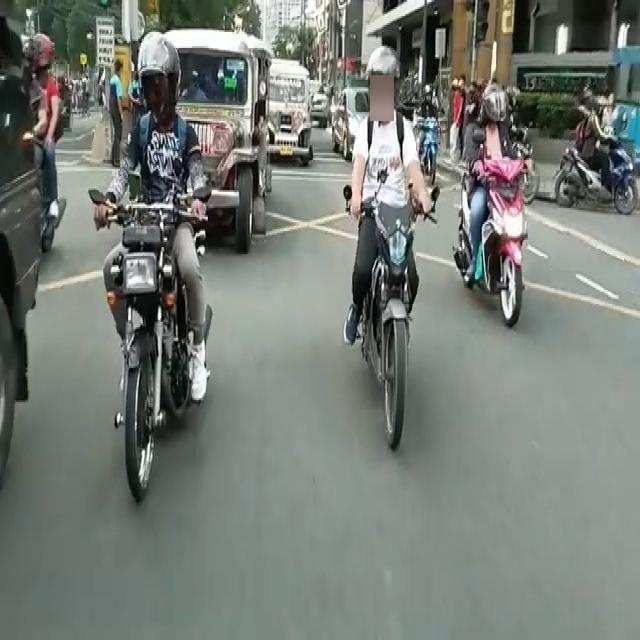car: (328, 92, 368, 158)
jeepney: (183, 38, 263, 236), (265, 61, 309, 167)
motorcycle: (97, 47, 218, 483), (342, 58, 418, 441), (457, 91, 523, 308), (551, 105, 637, 214), (25, 48, 62, 280)
